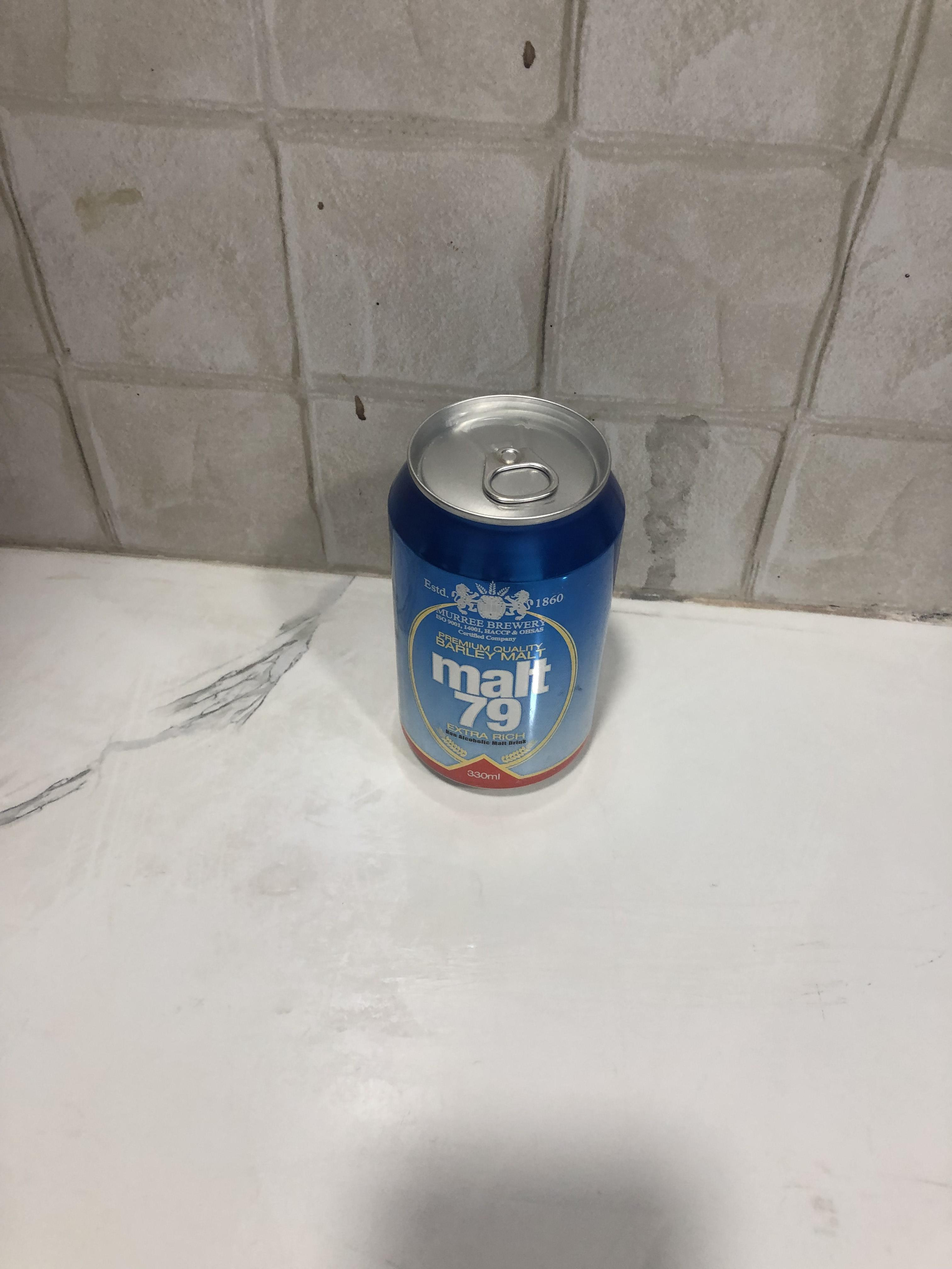tin can: (384, 388, 629, 797)
